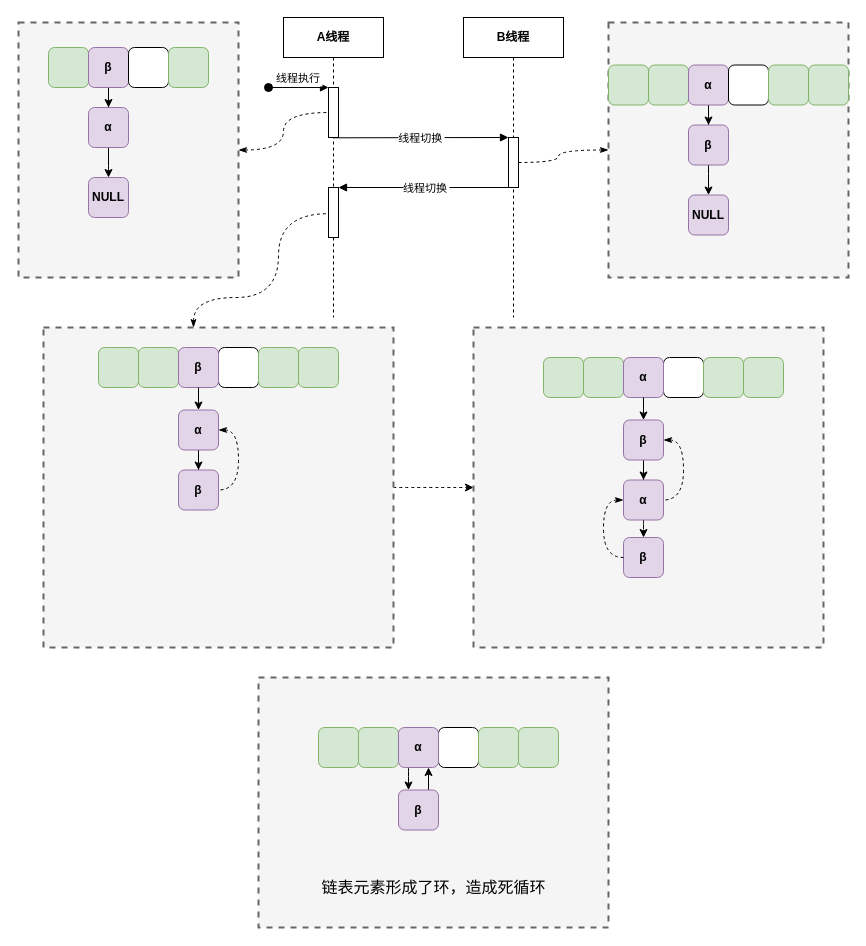
Image size: 866x946. Some labels were removed from this diagram. Here are the shapes that lost their labels. From the top down, the box of each, then its label:
(17, 21, 239, 278): 插入数据触发扩容，A线程中获得的节点信息 β -> α ->NULL ，此时线程切换
(607, 21, 849, 278): B线程也触发扩容，但B线程先一步完成扩容，因为头插法节点顺序变为 α -> β ->NULL
(42, 326, 394, 648): A线程继续执行扩容，将 β 元素插入链表首位，修改了 β 的指向为 α ，同时由于 α 被B线程指向了 β
(472, 326, 824, 648): 最后 α 插入链表
(257, 676, 609, 928): 最终
